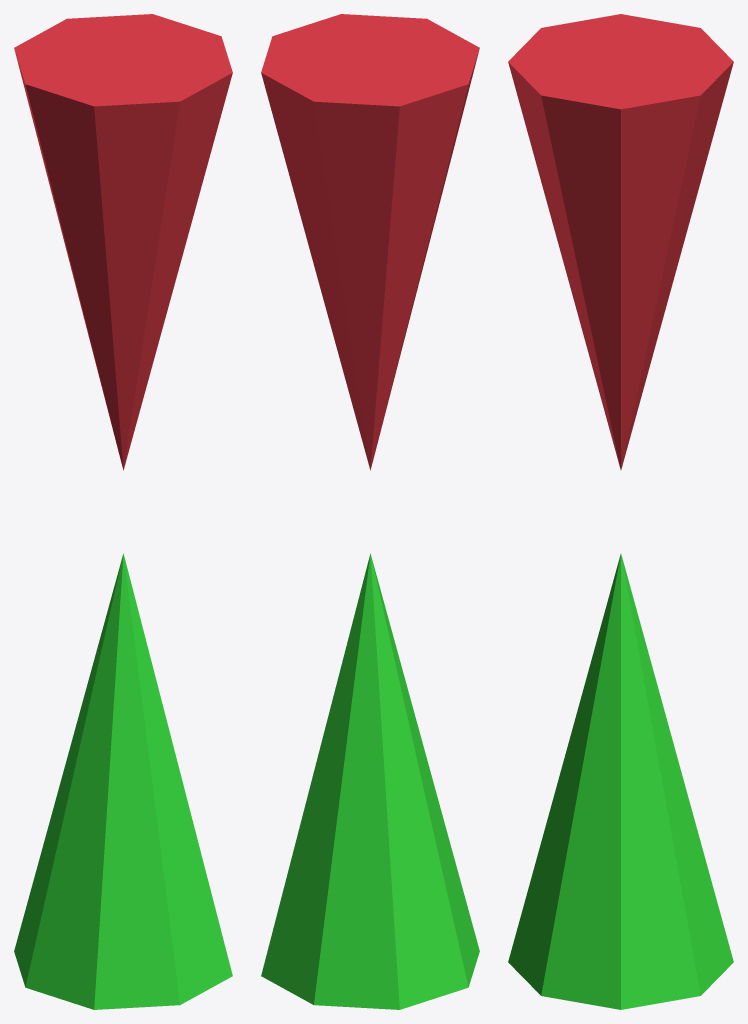
File: TargetPoints.fbx
3 views of the same model, side by side, from view 1: azimuth 30°, elevation 25°; view 2: azimuth 150°, elevation 25°; view 3: azimuth 270°, elevation 25° (orthographic).
Parts seen in each view (by area): view 1: TargetPoints; view 2: TargetPoints; view 3: TargetPoints.
Boxes of the visible parts, x1=… form: TargetPoints: x1=14, y1=14, x2=232, y2=1009; TargetPoints: x1=261, y1=14, x2=479, y2=1009; TargetPoints: x1=508, y1=14, x2=733, y2=1009.
Bounding box in the file's own units: 1500 × 6600 × 1500.
